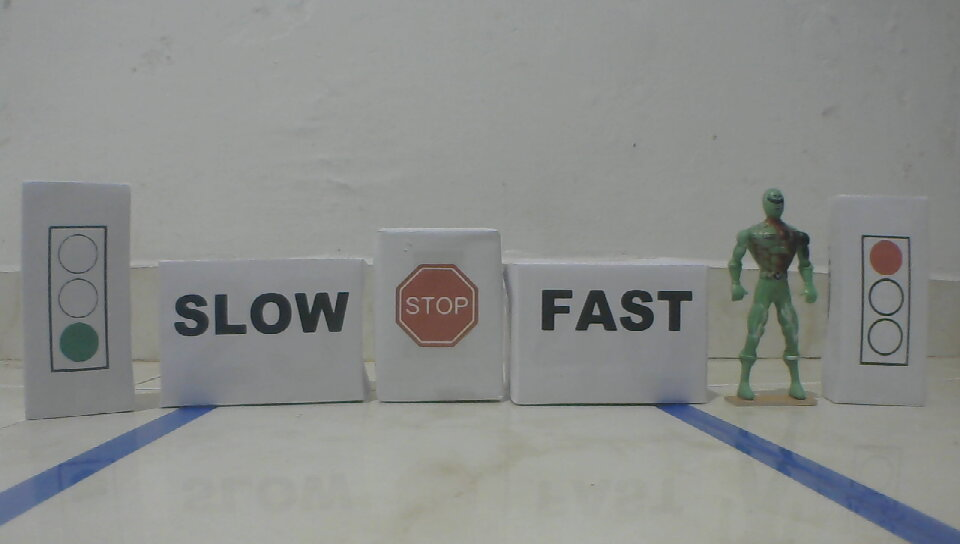Fast: (540, 288, 697, 335)
Green Traffic Light: (46, 223, 113, 376)
Person: (725, 187, 822, 406)
Red Traffic Light: (856, 233, 915, 369)
Slow: (172, 290, 350, 338)
Stop Sign: (393, 261, 482, 350)
